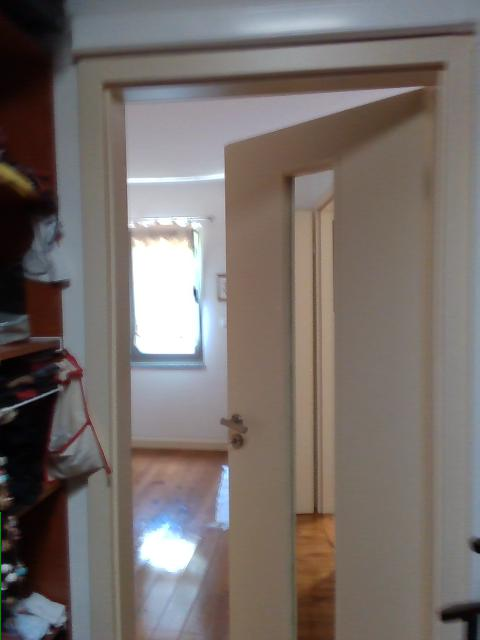semi_door: (62, 21, 478, 633)
